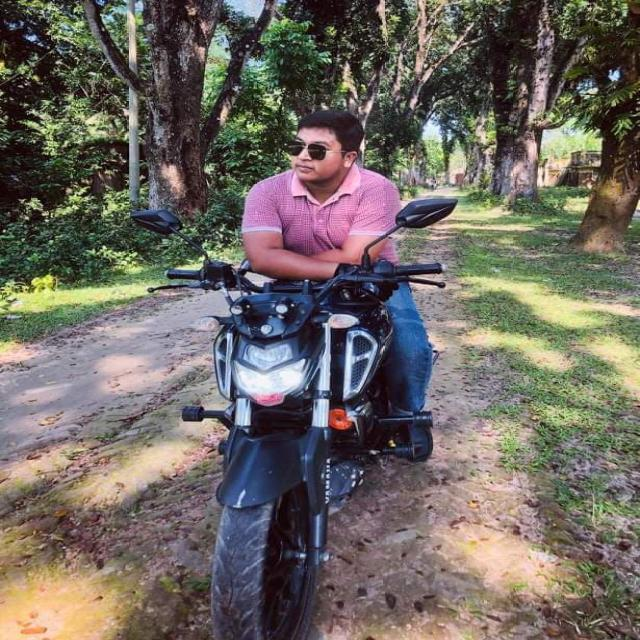No_Helmet: (286, 94, 384, 214)
